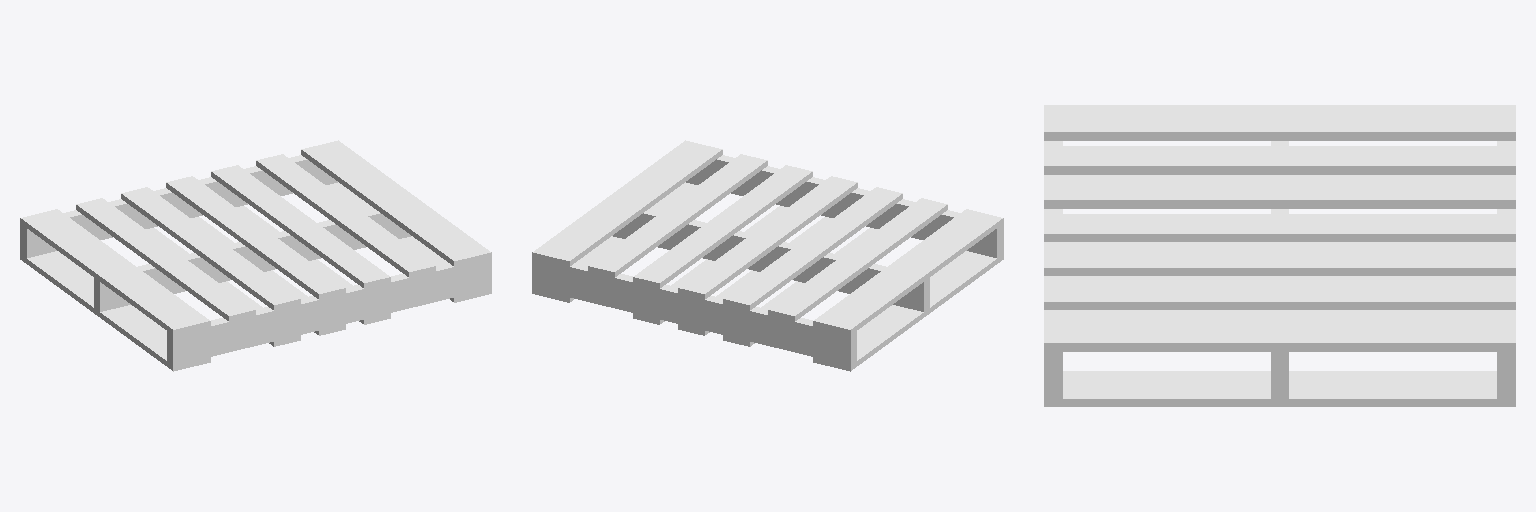
The robot description file, URDF, robot "cube.urdf":
<?xml version="0.0" ?>
<robot name="cube.urdf">
  <link name="baseLink">
    <contact>
      <lateral_friction value="1.0"/>
      <rolling_friction value="0.0001"/>
      <inertia_scaling value="3.0"/>
    </contact>
    <inertial>
      <origin rpy="0 0 0" xyz="0 0 0"/>
       <mass value=".1"/>
       <inertia ixx="1" ixy="0" ixz="0" iyy="1" iyz="0" izz="1"/>
    </inertial>
    <visual>
      <origin rpy="0 0 0" xyz="0 0 0"/>
      <geometry>
        <mesh filename="pallet.obj" scale="0.175 0.175 0.175"/>
      </geometry>
      <material name="dummy">
        <color rgba="1 1 1 1"/>
      </material>
    </visual>
    <collision>
      <origin rpy="0 0 0" xyz="0 0 0"/>
      <geometry>
        <mesh filename="pallet.obj" scale="0.175 0.175 0.175"/>
      </geometry>
    </collision>
  </link>
</robot>

--- Render facts (derived) ---
3 views of the same robot in one strip: view 1: azimuth 30°, elevation 25°; view 2: azimuth 150°, elevation 25°; view 3: azimuth 270°, elevation 25° (orthographic).
Model cube.urdf with 1 links and 0 joints (none), rooted at baseLink, posed every joint at zero.
Visible links, largest first — view 1: baseLink; view 2: baseLink; view 3: baseLink.
Link boxes in pixels (x1=…): baseLink: x1=20, y1=140, x2=491, y2=371; baseLink: x1=532, y1=140, x2=1003, y2=371; baseLink: x1=1044, y1=105, x2=1515, y2=406.
Size in the robot's own frame: 0.21 by 0.175 by 0.0263 metres.
1 mesh visuals loaded from 1 distinct referenced files (1 OBJ).